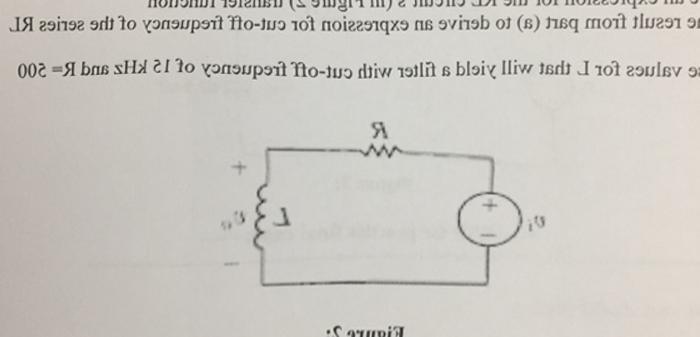Battery: (435, 177, 527, 261)
